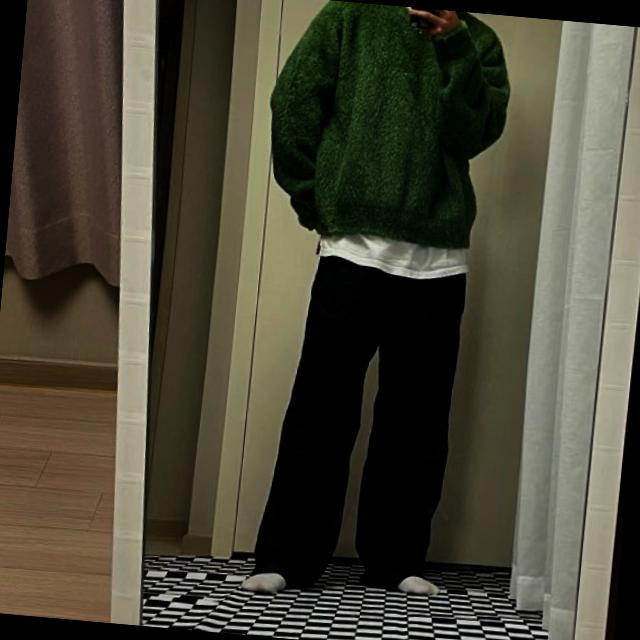denimpants: (246, 252, 464, 604)
sweater: (263, 0, 521, 255)
